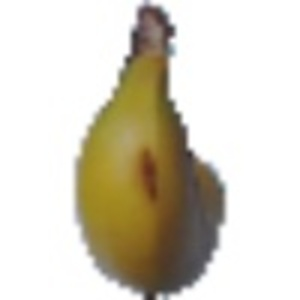banana: (70, 7, 226, 292)
